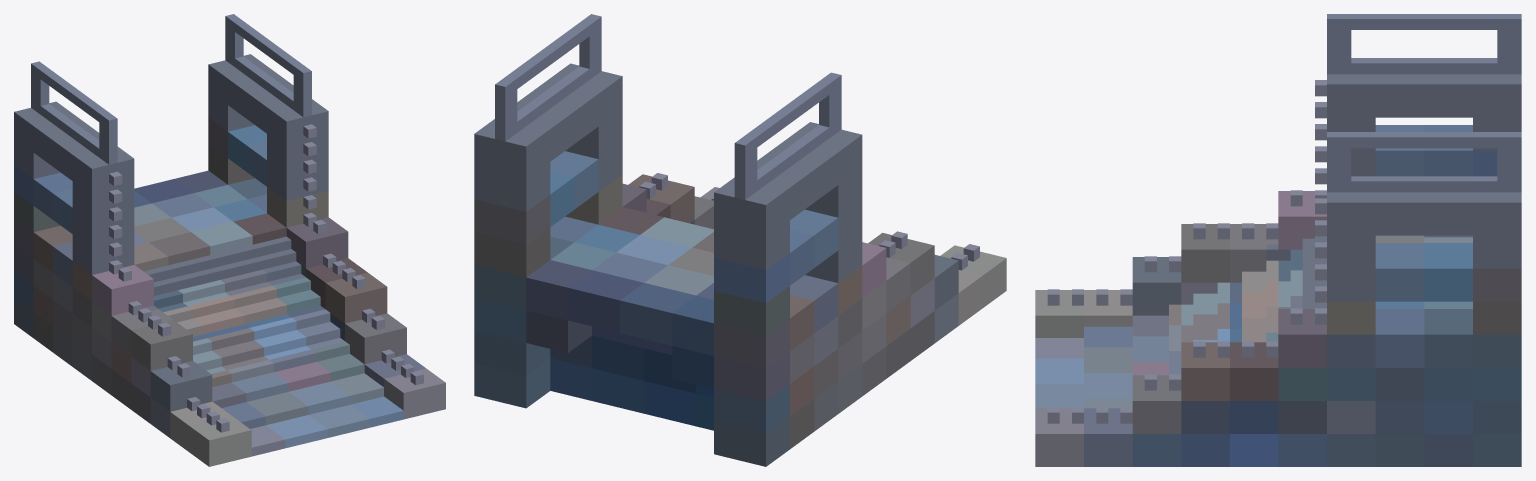
Rendered from SteelRamp.glb.
3 renders of one model, left to right at view 1: azimuth 30°, elevation 25°; view 2: azimuth 150°, elevation 25°; view 3: azimuth 270°, elevation 25°, orthographic. The views are drawn at different scales.
Visible parts, largest first — view 1: _0; view 2: _0; view 3: _0.
Boxes of the visible parts, left/top/right/bottom form: _0: left=14, top=14, right=445, bottom=466; _0: left=474, top=14, right=1006, bottom=466; _0: left=1035, top=14, right=1521, bottom=466.
Size of the model in its own units: 0.042 by 0.0435 by 0.06.
